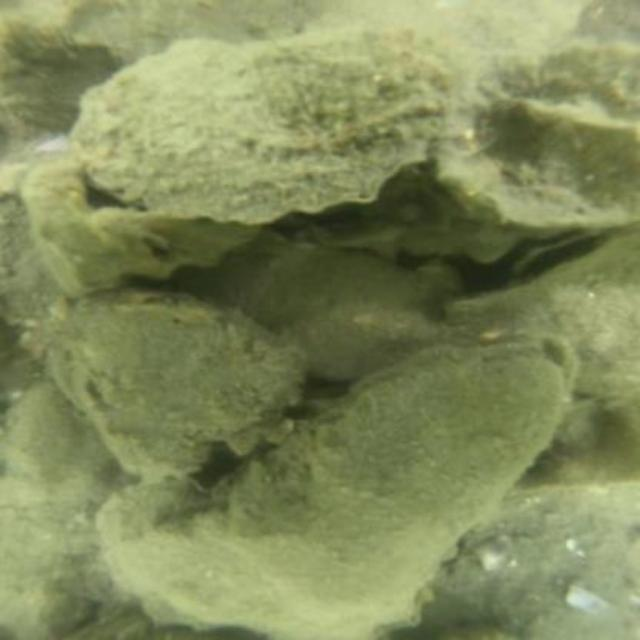Oyster-Closed: (184, 333, 589, 618), (70, 20, 491, 216), (88, 471, 435, 638), (40, 292, 300, 475), (448, 227, 633, 412), (434, 78, 638, 237), (232, 246, 448, 373)
Oyster-Open: (15, 144, 281, 299), (507, 229, 618, 286)
